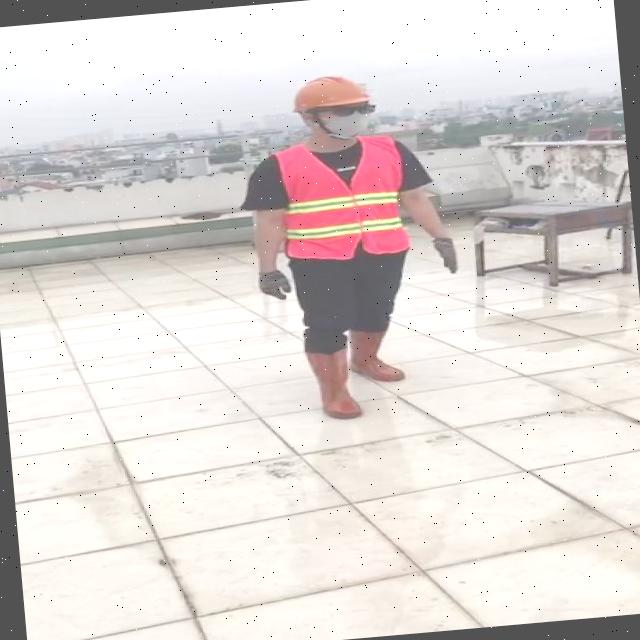boots: (301, 346, 366, 422), (346, 324, 408, 386)
